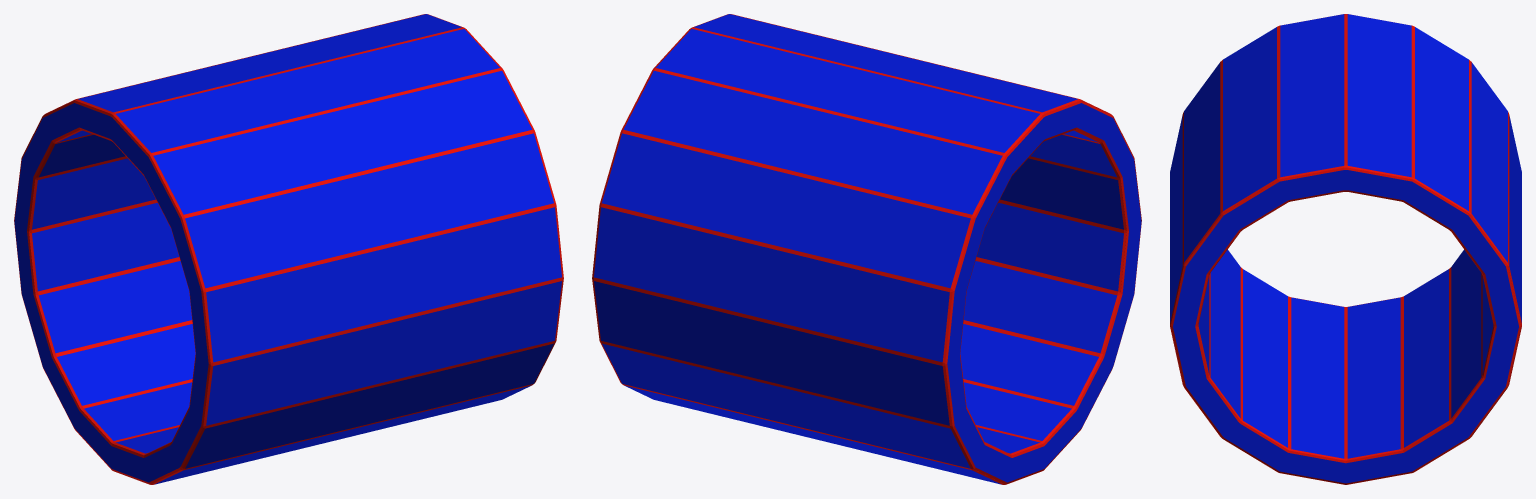
Rendered from L9_EndCylinder.fbx.
3 renders of one model, left to right at view 1: azimuth 30°, elevation 25°; view 2: azimuth 150°, elevation 25°; view 3: azimuth 270°, elevation 25°, orthographic. The views are drawn at different scales.
Visible parts, largest first — view 1: L9_EndCylinder; view 2: L9_EndCylinder; view 3: L9_EndCylinder.
Boxes of the visible parts, x1,y1,x2,y2 form: L9_EndCylinder: (14, 14, 563, 484); L9_EndCylinder: (592, 14, 1141, 484); L9_EndCylinder: (1170, 14, 1521, 484).
Size of the model in its own units: 1000 by 963 by 963.
